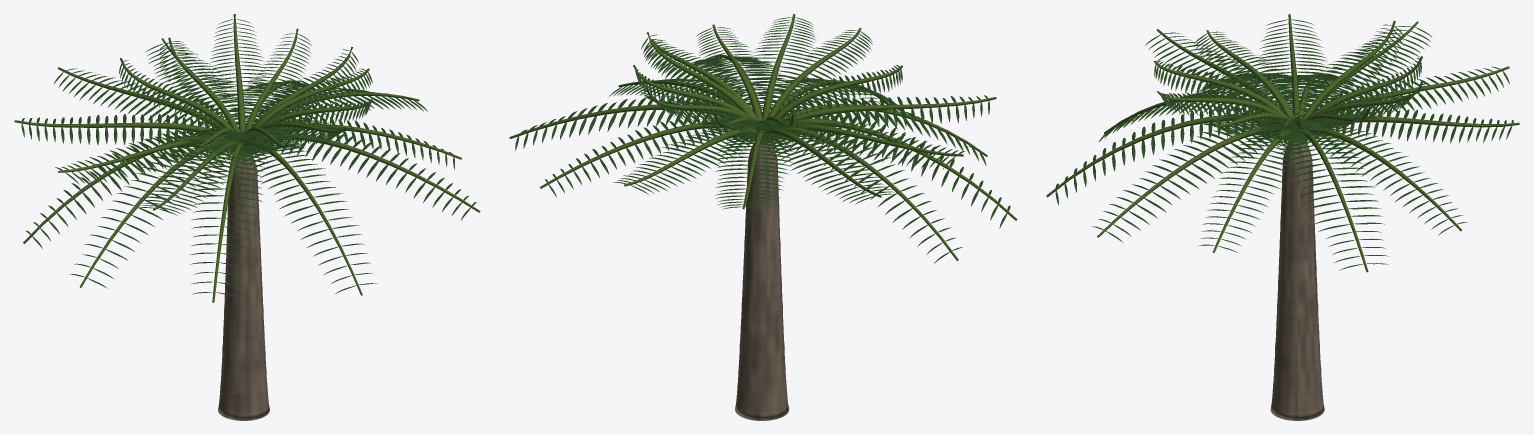
File: n-palmpinnate.glb
The picture shows the model from 3 angles, left to right: view 1: azimuth 30°, elevation 25°; view 2: azimuth 150°, elevation 25°; view 3: azimuth 270°, elevation 25°; orthographic projection. The views are drawn at different scales.
Parts seen in each view (by area): view 1: Foliage, Stems, Bark; view 2: Foliage, Stems, Bark; view 3: Foliage, Stems, Bark.
Part boxes in pixels (x1,y1,x2,y2): Foliage: (21,19,476,297); Stems: (14,14,480,302); Bark: (218,154,269,420); Foliage: (515,17,1010,263); Stems: (509,14,1017,260); Bark: (735,141,789,420); Foliage: (1055,19,1513,270); Stems: (1046,14,1519,272); Bark: (1270,141,1324,420).
Bounding box in the file's own units: 2.96 × 2.33 × 2.82.
3 materials, 2 textured.
